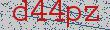4: (30, 1, 48, 29), (48, 1, 66, 28)
d: (12, 1, 30, 28)
p: (65, 3, 82, 28)
z: (83, 4, 103, 28)
